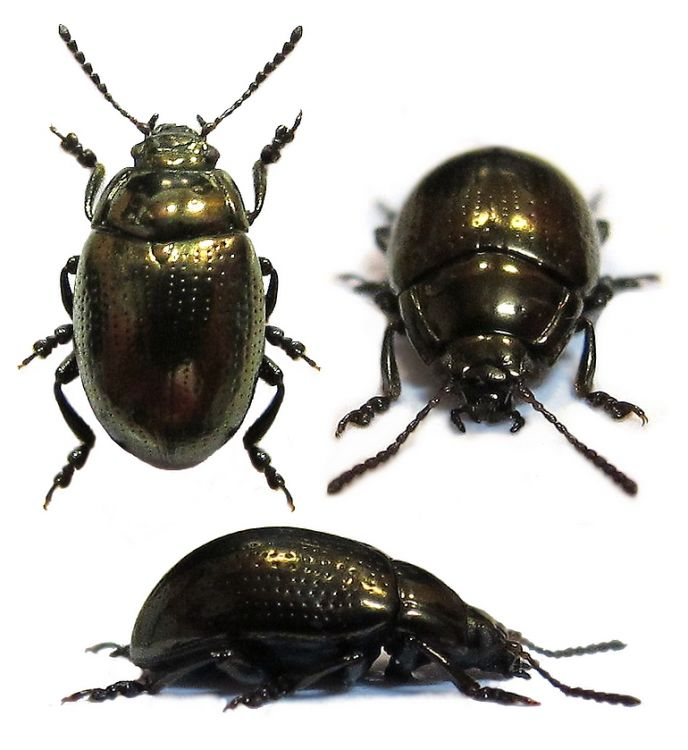Chrysolina_oricalcia: (13, 13, 302, 515), (329, 137, 665, 513), (51, 511, 646, 714)
